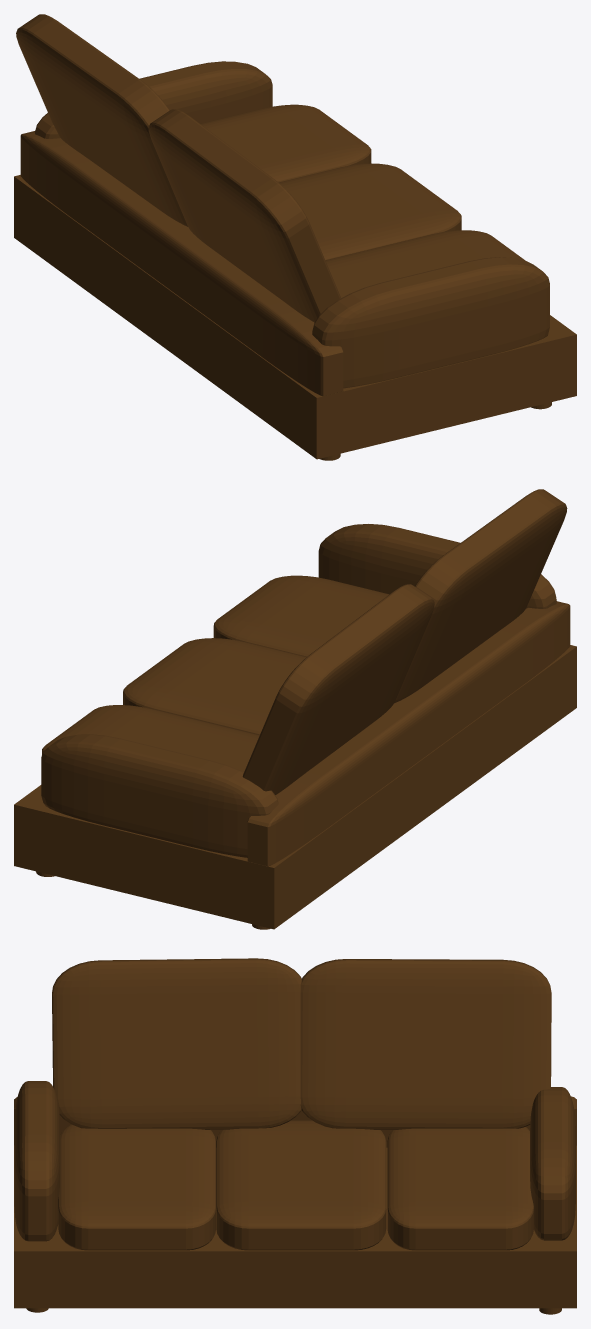
Rendered from couch1.2.fbx.
The picture shows the model from 3 angles, top to bottom: view 1: azimuth 30°, elevation 25°; view 2: azimuth 150°, elevation 25°; view 3: azimuth 270°, elevation 25°; orthographic projection. The views are drawn at different scales.
Visible parts, largest first — view 1: Cube.008; view 2: Cube.008; view 3: Cube.008.
Part boxes in pixels (x1,y1,x2,y2): Cube.008: (14,14,576,460); Cube.008: (14,489,576,929); Cube.008: (14,958,576,1314).
Bounding box in the file's own units: 332 × 284 × 601.
